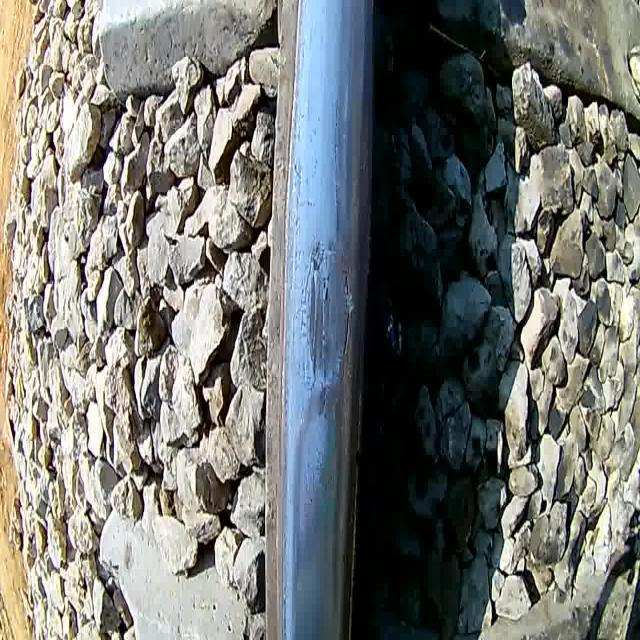Cracks: (336, 260, 353, 363)
Squats: (298, 238, 348, 382)
